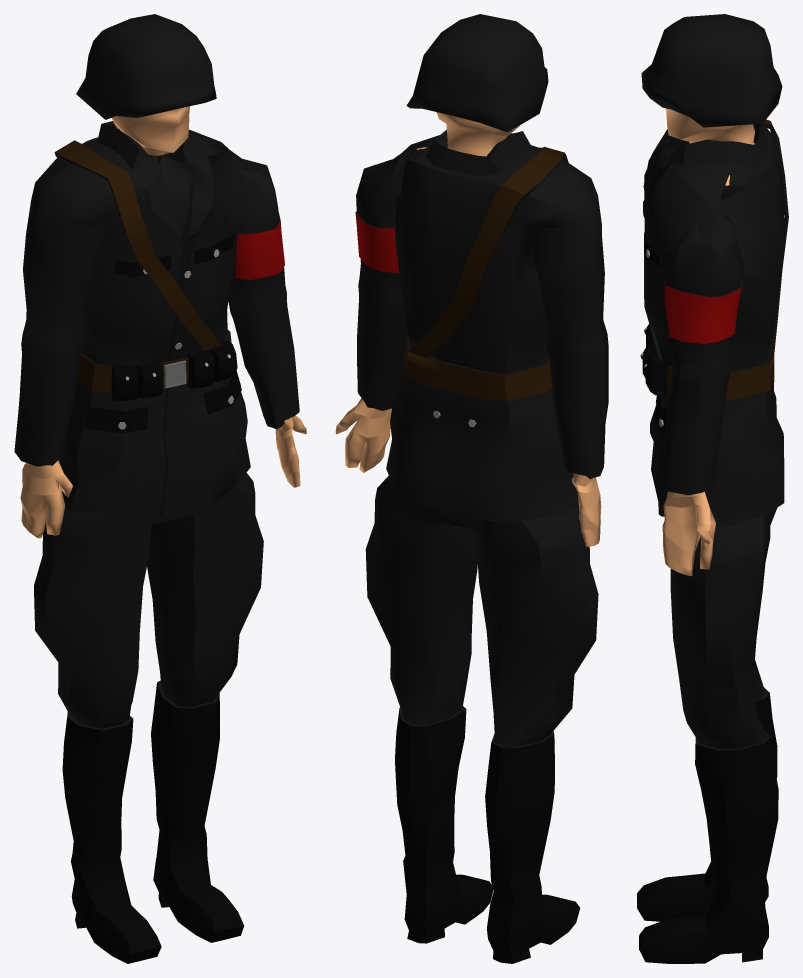
File: german_ww2_soldier_relaxed_static.glb
3 renders of one model, left to right at view 1: azimuth 30°, elevation 25°; view 2: azimuth 150°, elevation 25°; view 3: azimuth 270°, elevation 25°, orthographic.
Visible parts, largest first — view 1: Soldier_1_Static, Helmet_Static; view 2: Soldier_1_Static, Helmet_Static; view 3: Soldier_1_Static, Helmet_Static.
Part boxes in pixels (x1,y1,x2,y2): Soldier_1_Static: [14, 106, 306, 963]; Helmet_Static: [76, 14, 216, 119]; Soldier_1_Static: [335, 112, 608, 963]; Helmet_Static: [406, 14, 548, 132]; Soldier_1_Static: [637, 108, 788, 963]; Helmet_Static: [641, 14, 782, 127].
Bounding box in the file's own units: 0.4932 × 1.53 × 0.2307.
Materials: 1 (1 with a texture image).
